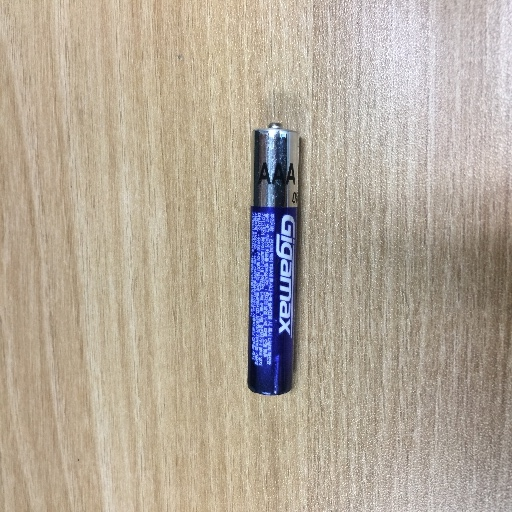Battery_0: (222, 113, 323, 415)
